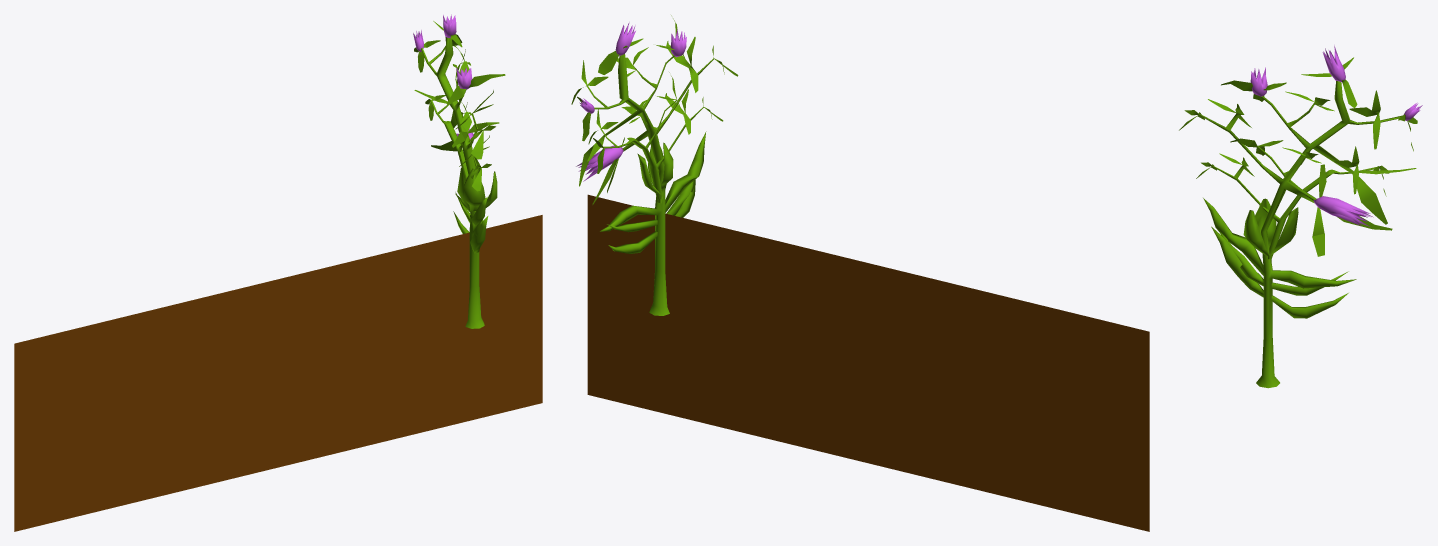
The model's file is ErbaMedica1.fbx.
3 views of the same model, side by side, from view 1: azimuth 30°, elevation 25°; view 2: azimuth 150°, elevation 25°; view 3: azimuth 270°, elevation 25° (orthographic). The views are drawn at different scales.
Visible parts, largest first — view 1: Plane.003, Sphere.002, Sphere.001, Sphere; view 2: Plane.003, Sphere.002, Sphere.001, Sphere; view 3: Sphere.002, Sphere.001, Sphere, Cube.009, Cube.007, Cube.006.
Boxes of the visible parts, <box> form: Plane.003: <box>14,215,542,531</box>; Sphere.002: <box>414,21,505,328</box>; Sphere.001: <box>425,79,499,235</box>; Sphere: <box>453,165,497,253</box>; Plane.003: <box>587,194,1149,531</box>; Sphere.002: <box>571,15,738,315</box>; Sphere.001: <box>588,72,723,232</box>; Sphere: <box>608,142,695,253</box>; Sphere.002: <box>1179,57,1417,388</box>; Sphere.001: <box>1196,138,1389,295</box>; Sphere: <box>1211,198,1348,318</box>; Cube.009: <box>1313,196,1373,226</box>; Cube.007: <box>1322,45,1345,82</box>; Cube.006: <box>1250,67,1267,96</box>.
Size of the model in its own units: 115 by 80.27 by 39.87.
